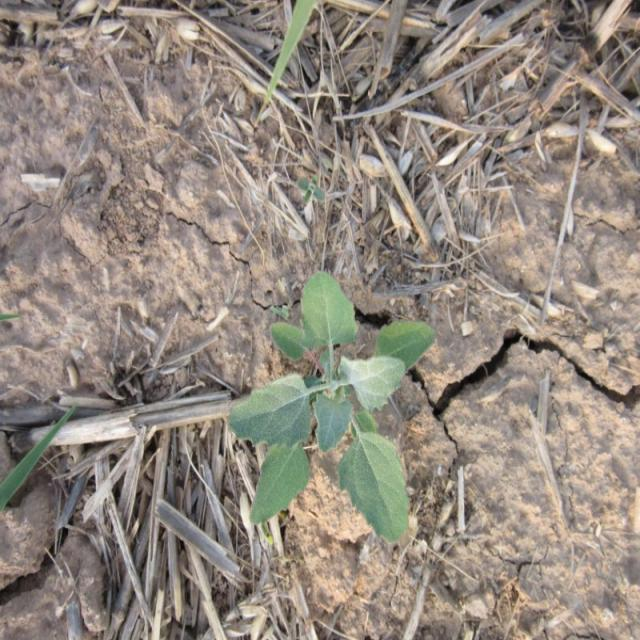ca: (231, 267, 431, 544)
